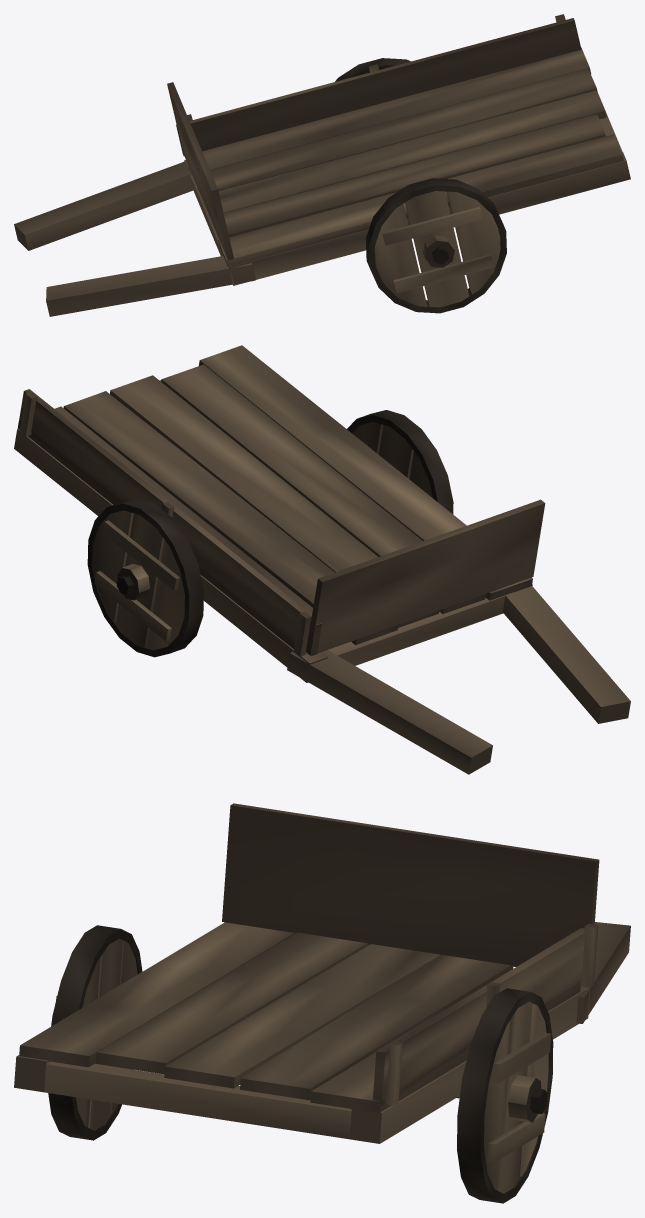
The model's file is Aracart04.glb.
3 views of the same model, one above another, from view 1: azimuth 30°, elevation 25°; view 2: azimuth 150°, elevation 25°; view 3: azimuth 270°, elevation 25° (orthographic). The views are drawn at different scales.
Visible parts, largest first — view 1: Aracart04; view 2: Aracart04; view 3: Aracart04.
Part boxes in pixels (<box>): Aracart04: <box>14,14,630,316</box>; Aracart04: <box>14,345,630,774</box>; Aracart04: <box>14,803,630,1203</box>.
Bounding box in the file's own units: 4.87 × 1.43 × 3.17.
